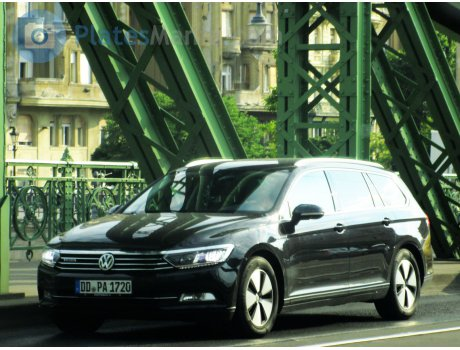License Plates: (79, 277, 131, 292)
